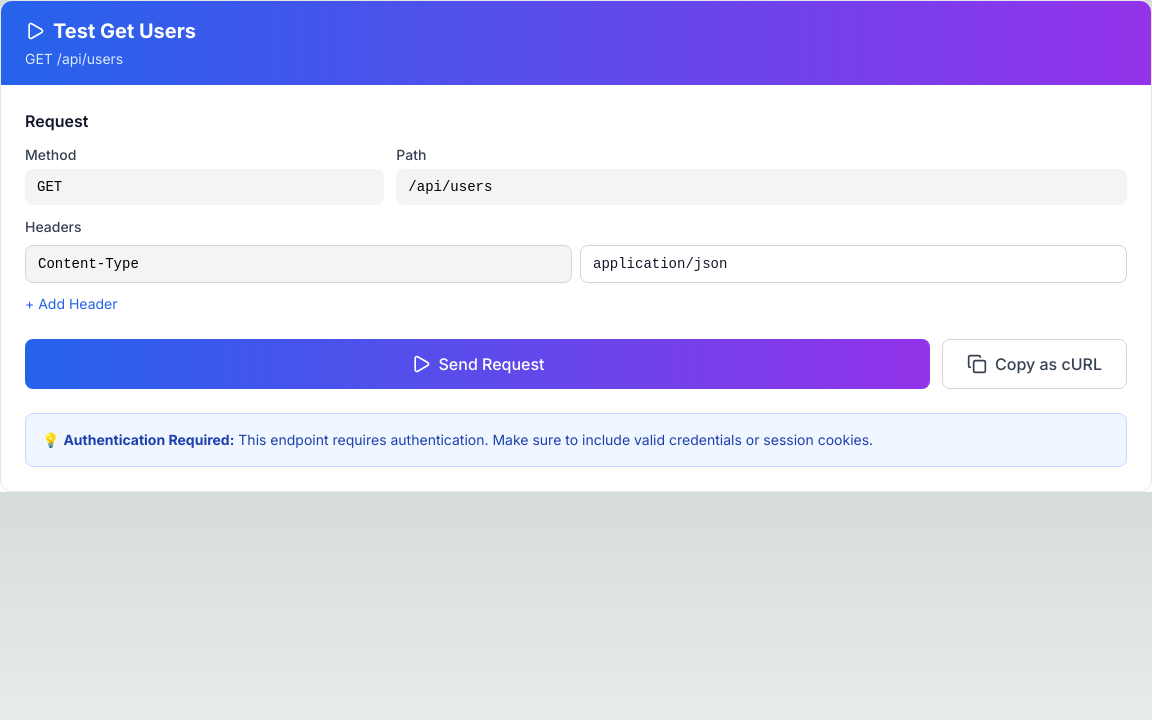
Test: APITestingPanel › Response Display › should format JSON response
Click the button "Send Request" at (478, 364), box x1=25 y1=339 x2=930 y2=389
(page scrolled)
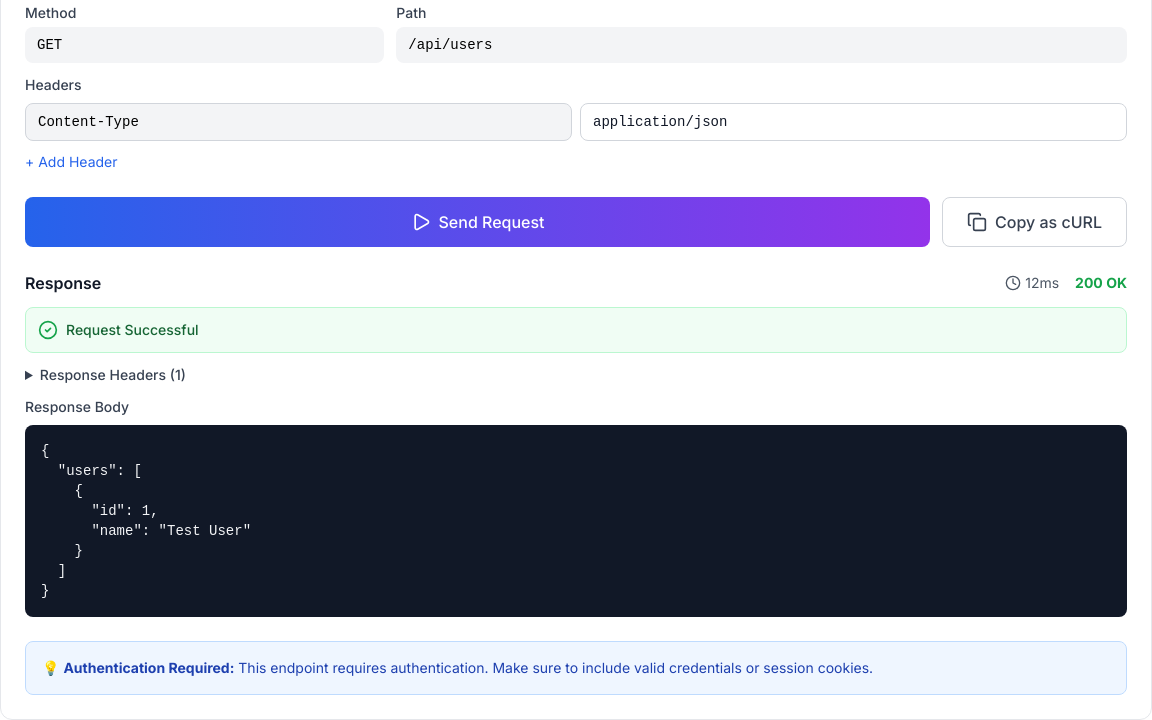
Expected: the heading "Response" is shown, x1=25 y1=271 x2=101 y2=295
Expected: the text "{ \"users\": [ { \"id\": 1, \"name\": \"Test User\" } ] }" is shown, x1=41 y1=443 x2=251 y2=599
